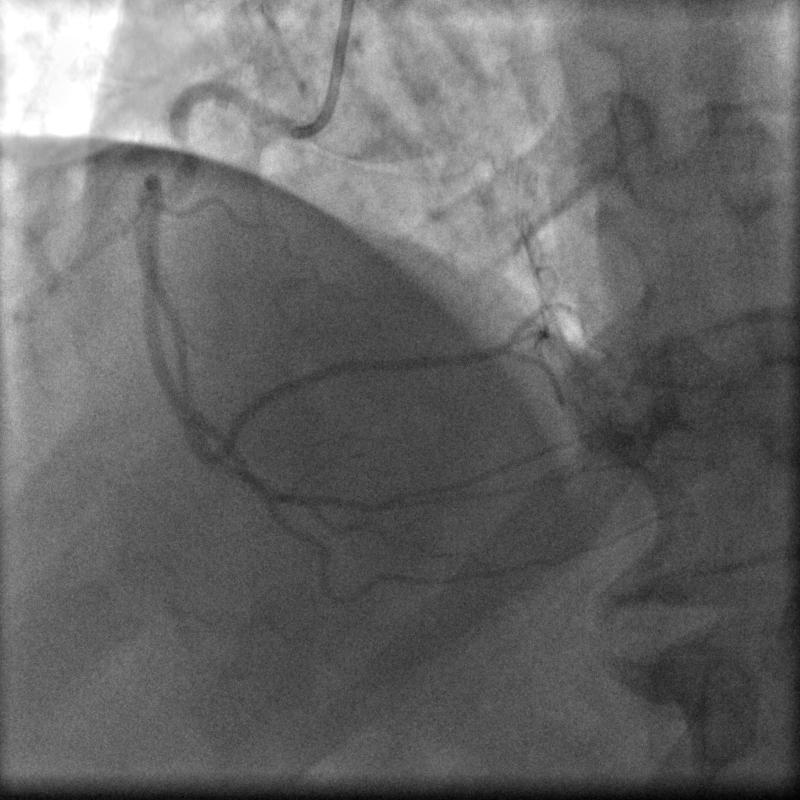Stenosis: (169, 133, 199, 156)
